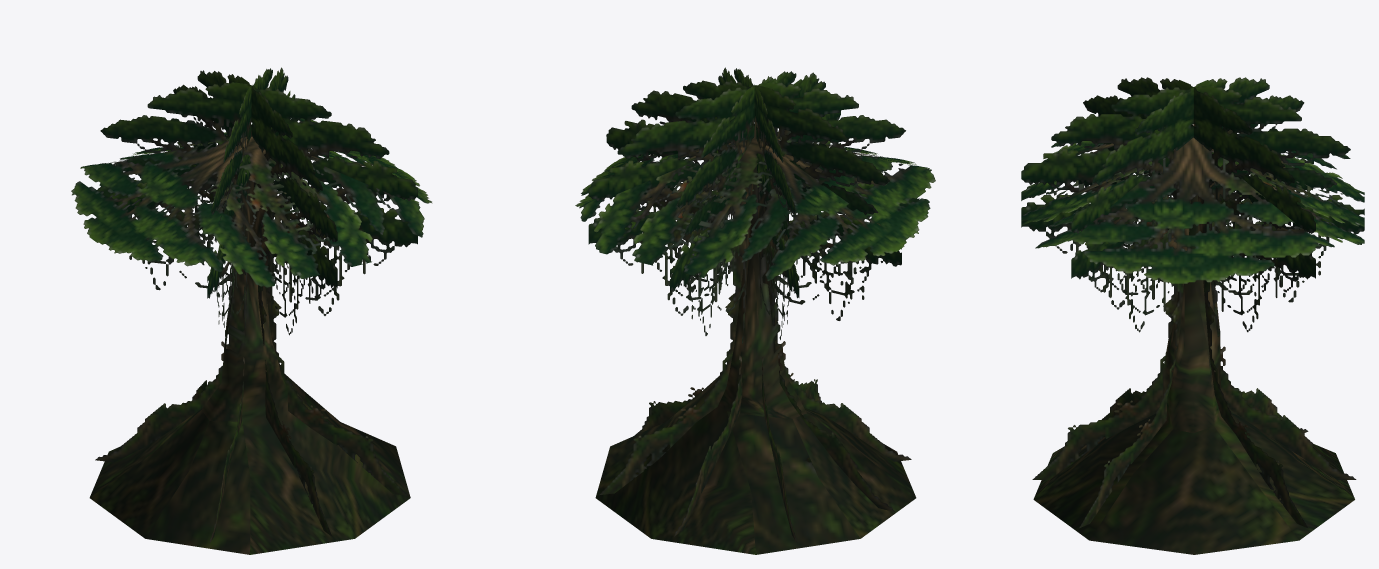
File: jungle_tree2.obj
3 views of the same model, side by side, from view 1: azimuth 30°, elevation 25°; view 2: azimuth 150°, elevation 25°; view 3: azimuth 270°, elevation 25° (orthographic).
Parts seen in each view (by area): view 1: jungle_tree2; view 2: jungle_tree2; view 3: jungle_tree2.
Boxes of the visible parts, bbox=[...] form: jungle_tree2: bbox=[71, 67, 432, 554]; jungle_tree2: bbox=[575, 67, 935, 554]; jungle_tree2: bbox=[1021, 77, 1364, 554].
Size of the model in its own units: 17.75 by 22.41 by 17.33.
Materials: 1 (1 with a texture image).
